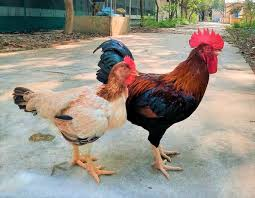Gà/Chicken: (95, 22, 239, 180), (8, 53, 140, 187)
